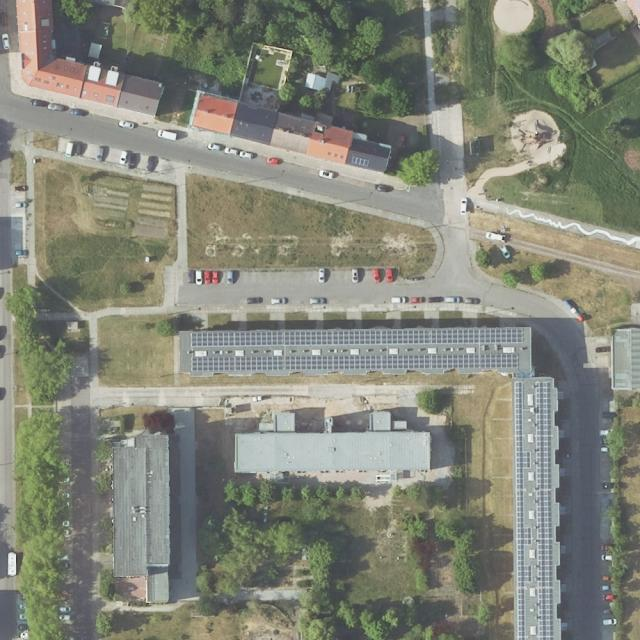PV: (192, 353, 518, 372), (192, 329, 524, 347), (535, 381, 553, 640), (515, 381, 525, 640)
ST: (351, 155, 369, 166)
